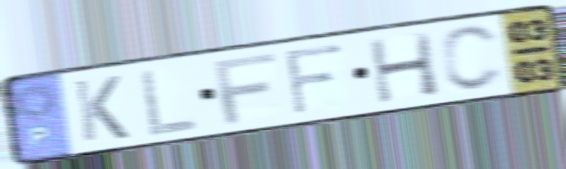C: (437, 22, 508, 94)
F: (209, 50, 279, 127), (281, 40, 347, 119)
H: (365, 29, 444, 107)
K: (70, 73, 133, 145)
L: (137, 65, 201, 140)
